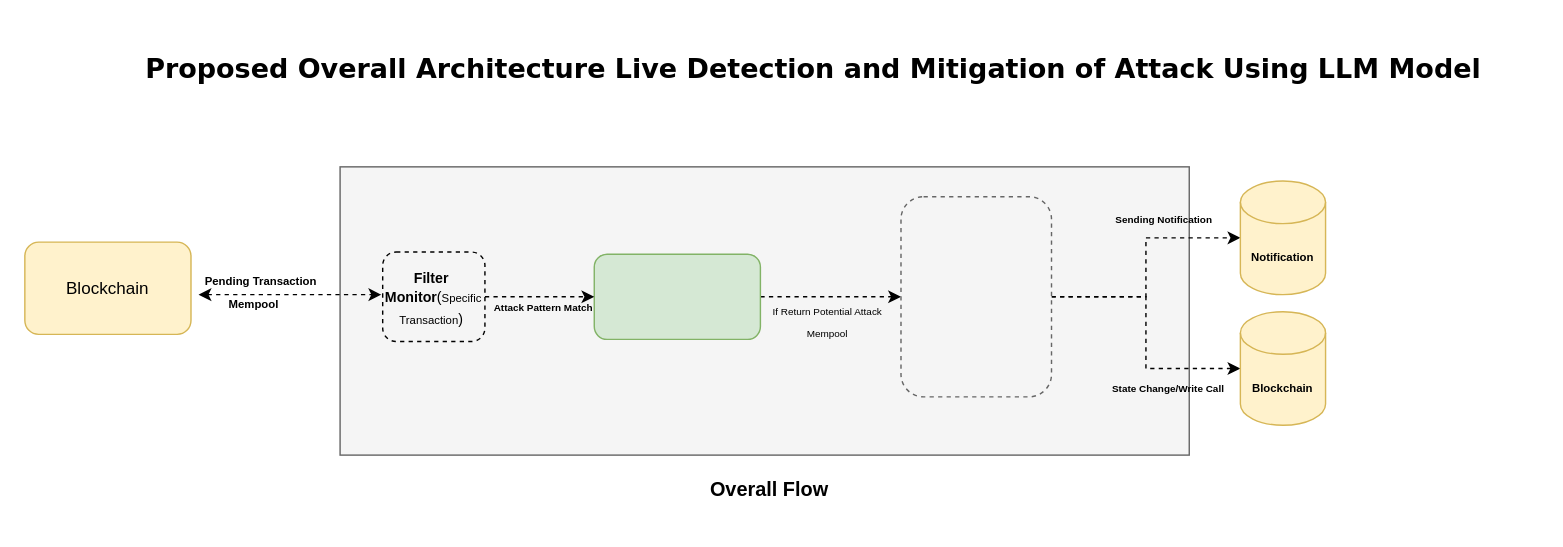
Image size: 1563x547. Some labels were removed from this diagram. The centre of each missing label's shape, as x and y in pixels:
Execute Action: the point at 976,296
Trained ML Model Pattern Detection: the point at 676,296
